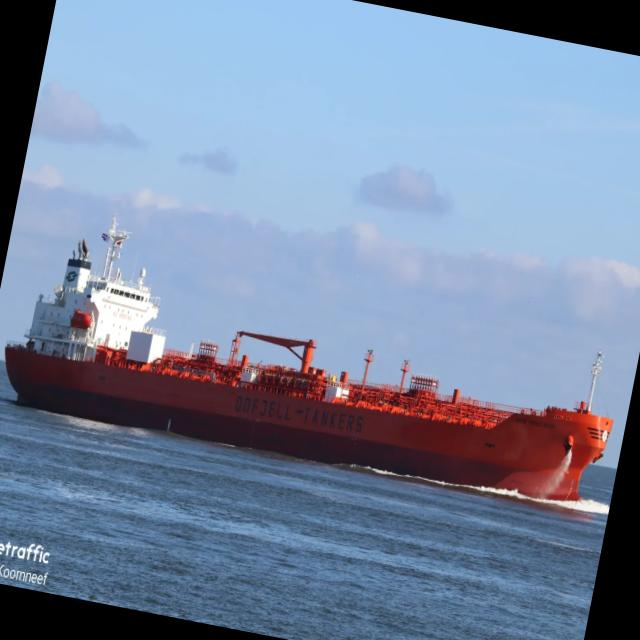Tanker: (5, 216, 613, 500)
